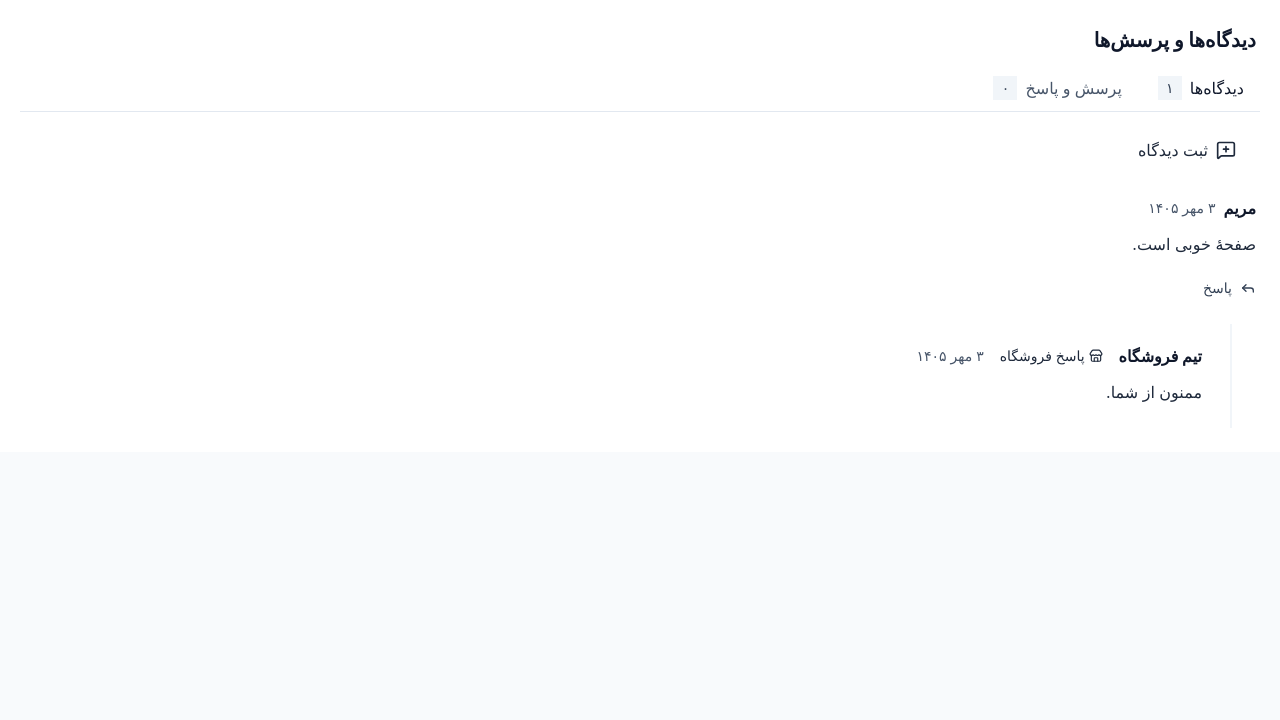
Test: PageComments › 404 on a send: the page is gone, said above the button
This screenshot has width=1280, height=720.
Click the button "ثبت دیدگاه". click: (1187, 150)
box: [1118,128,1256,172]
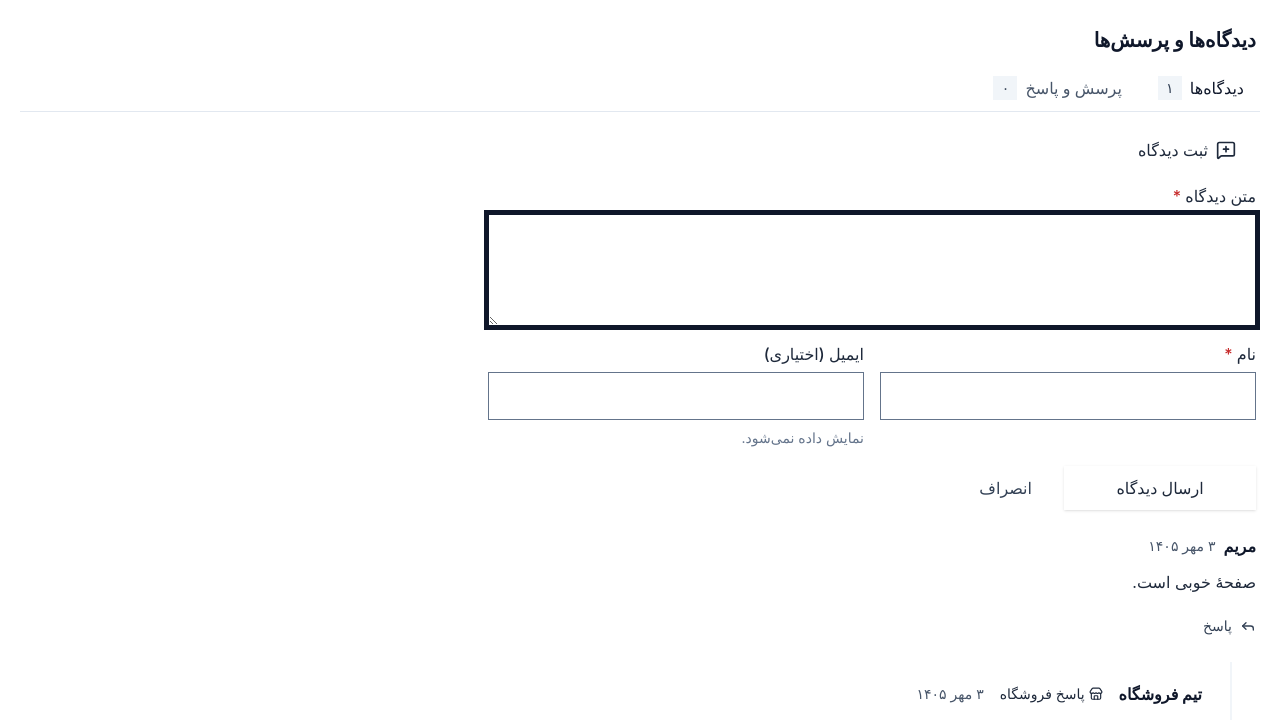
Type "عالی" into the text box labelled "متن دیدگاه *". click: (872, 270)
box: [488,214,1256,326]
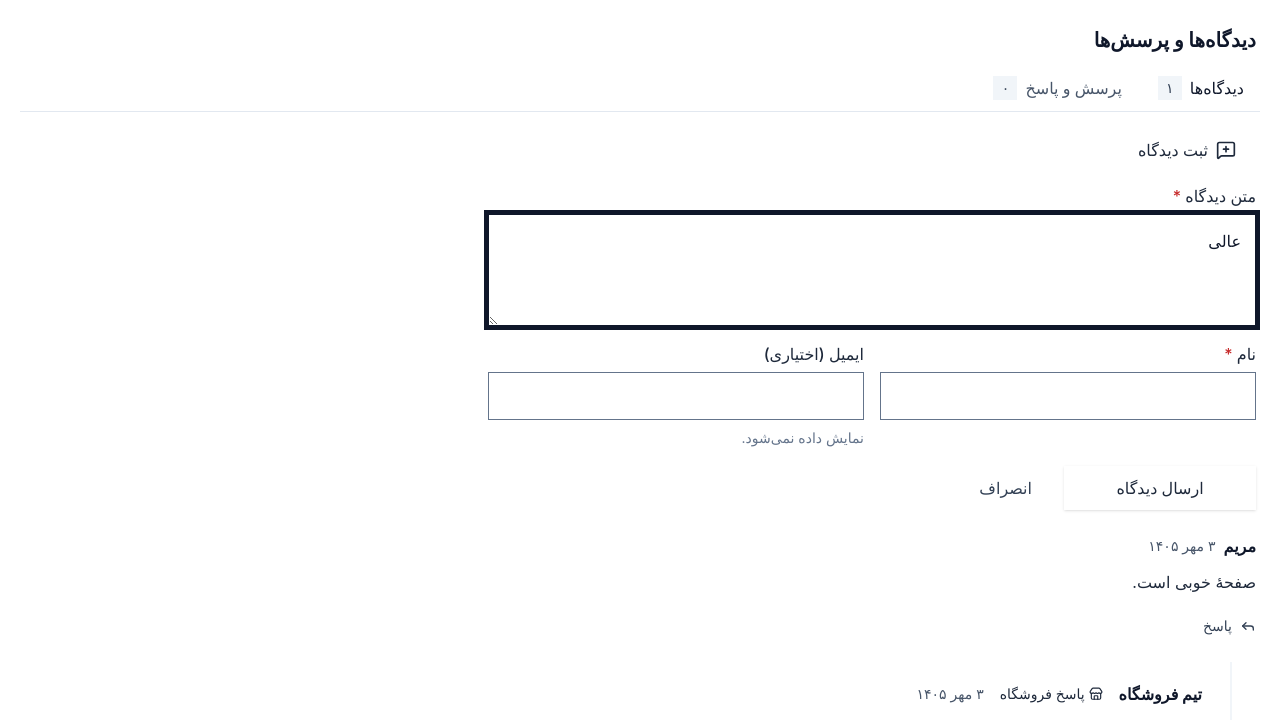
Type "سارا" into the field labelled "نام *". click: (1068, 396)
box: [881,373,1255,419]
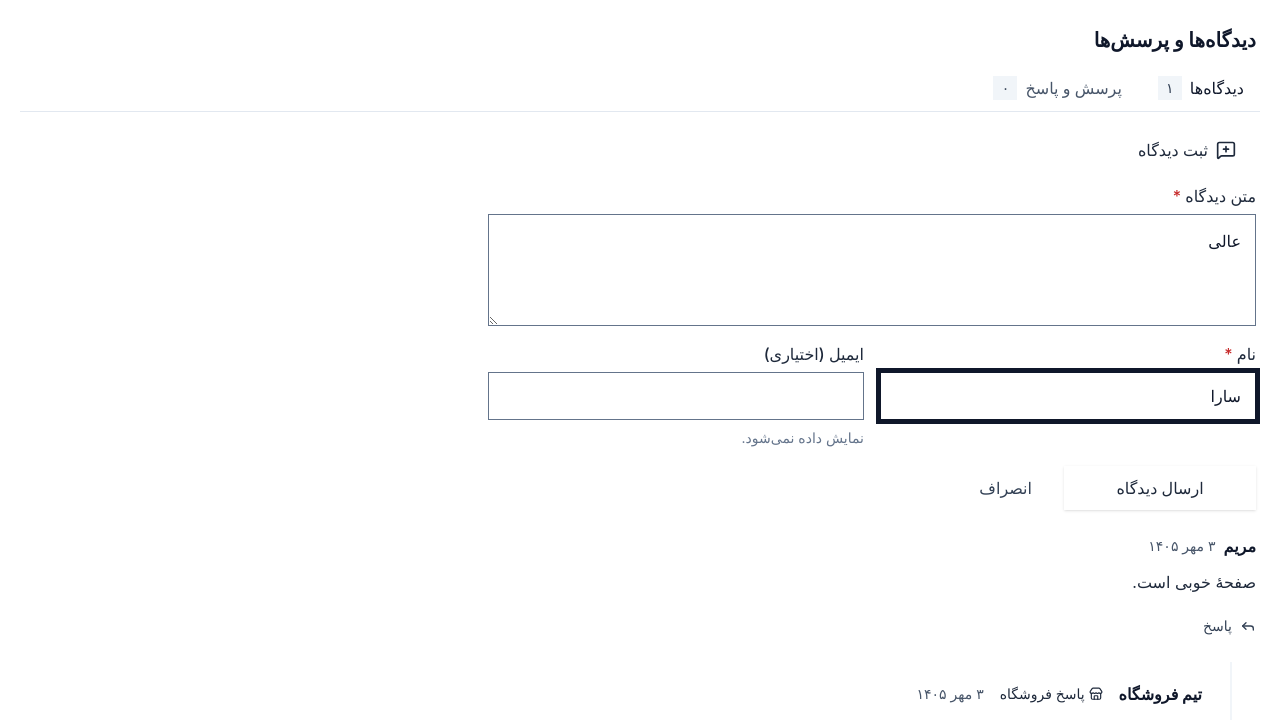
Click the button "ارسال دیدگاه". click: (1160, 488)
box: [1064,466,1256,510]
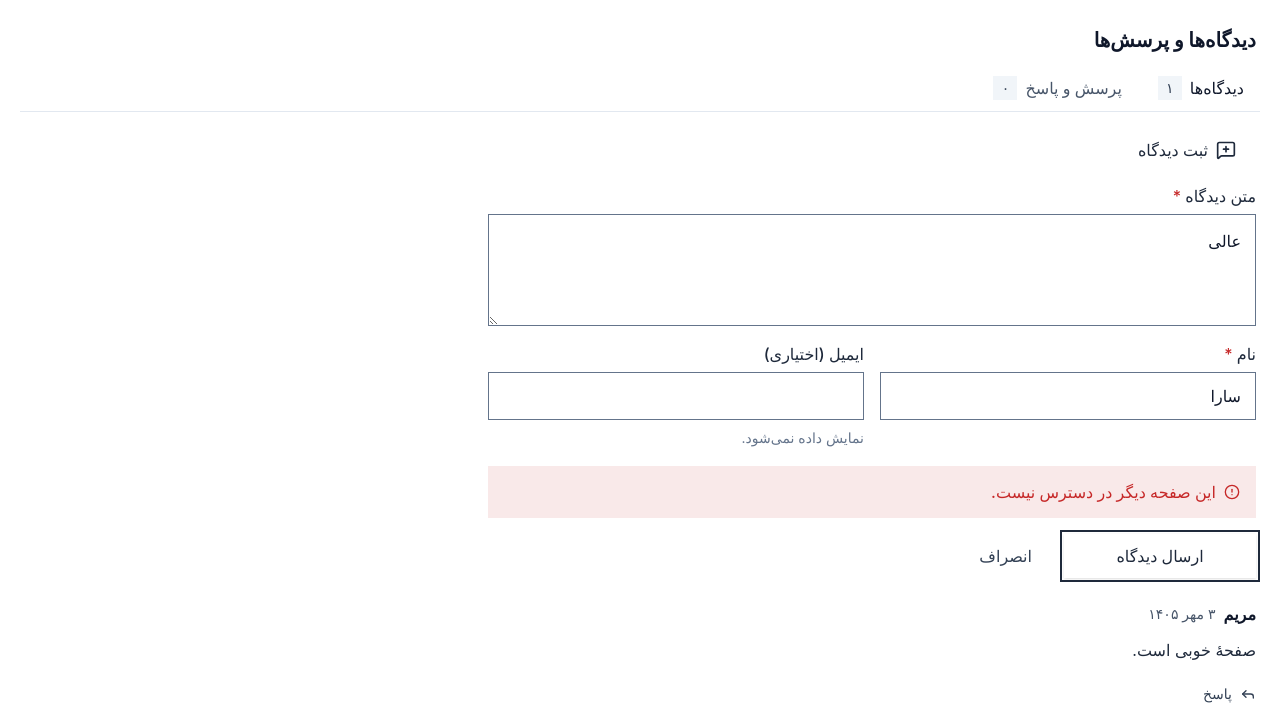
Result: the message reads "این صفحه دیگر در دسترس نیست." at [991,482,1216,502]
